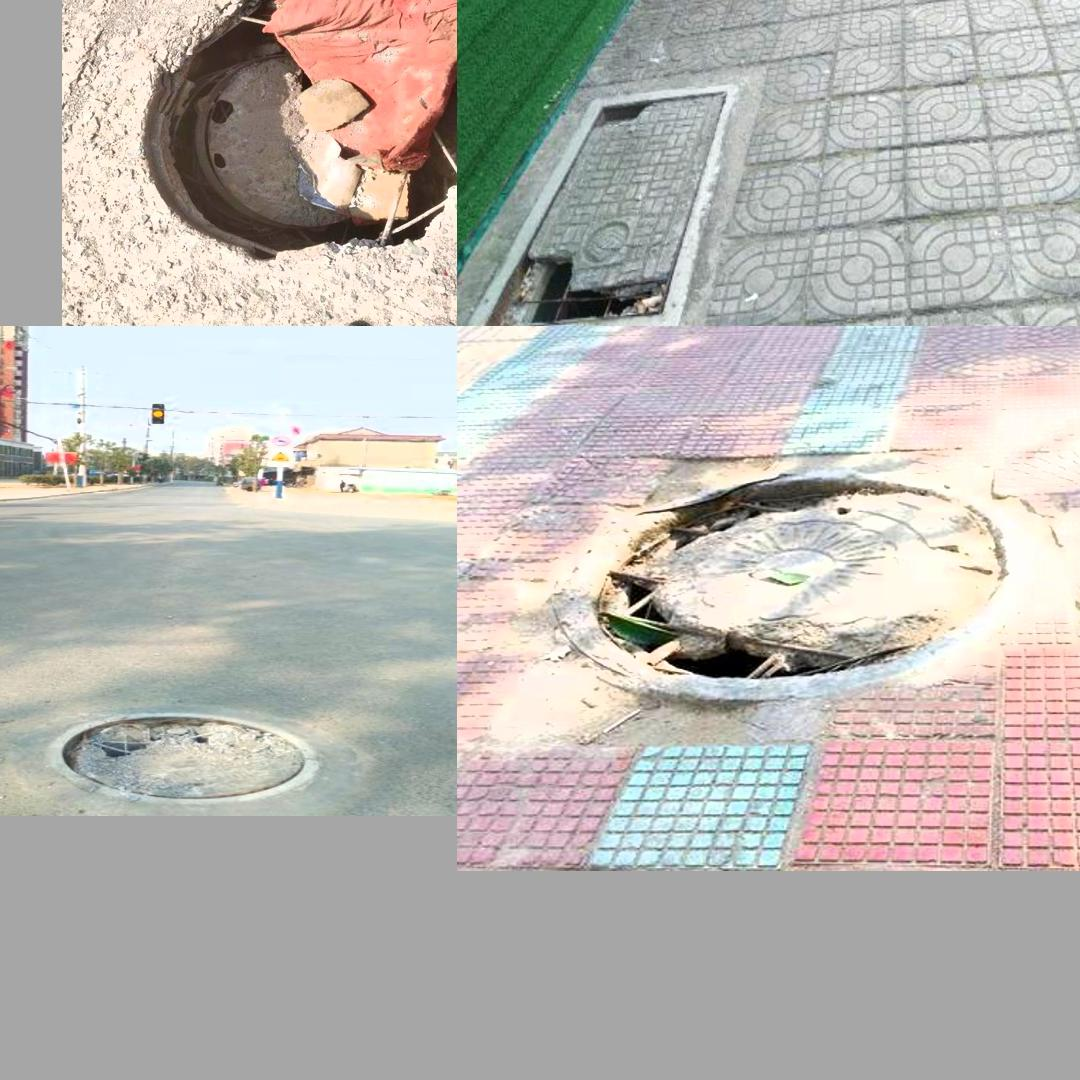broke: (555, 461, 1050, 699), (99, 0, 447, 297), (465, 84, 739, 326), (48, 711, 319, 804)
